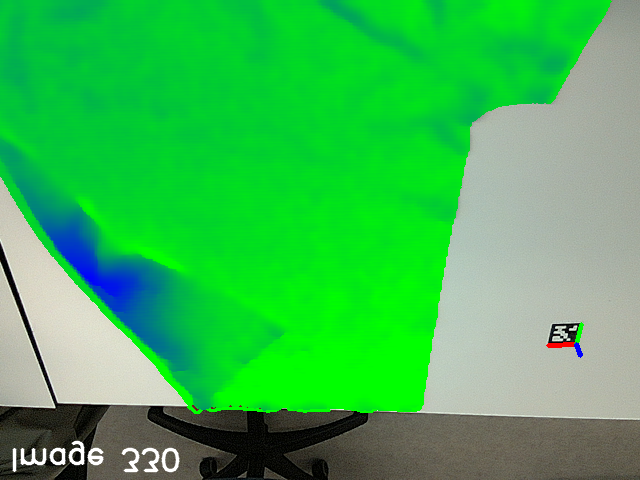V: (246, 295, 302, 360)
